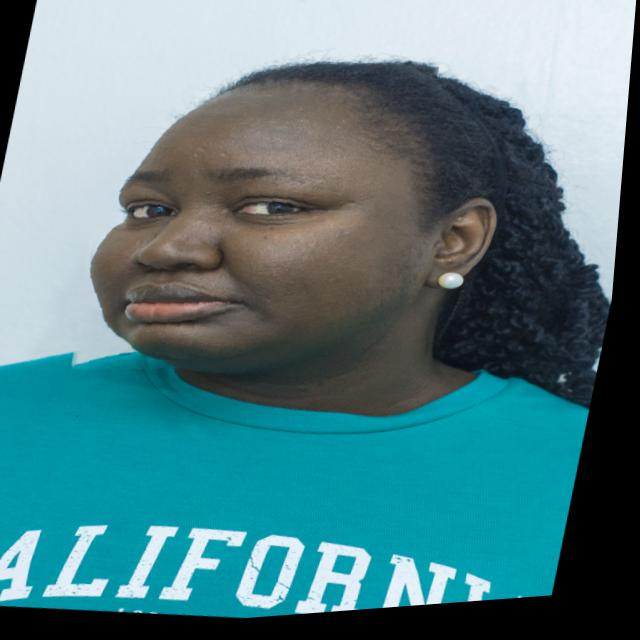sad: (61, 33, 458, 406)
